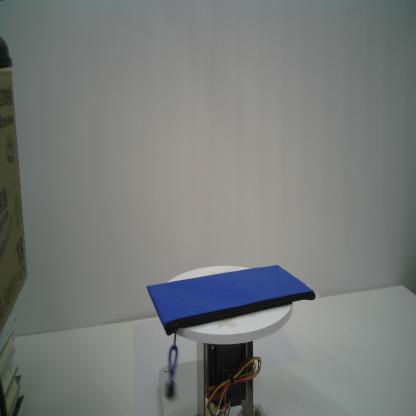Stationery: (147, 264, 315, 398)
